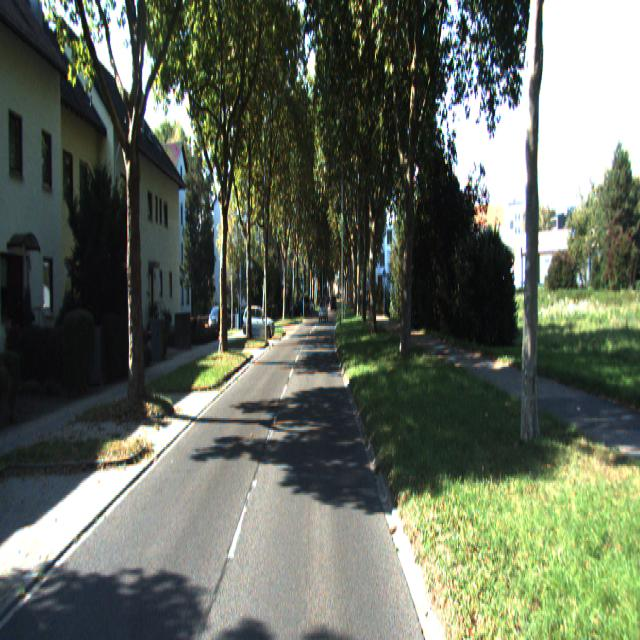Car: (241, 313, 276, 347)
